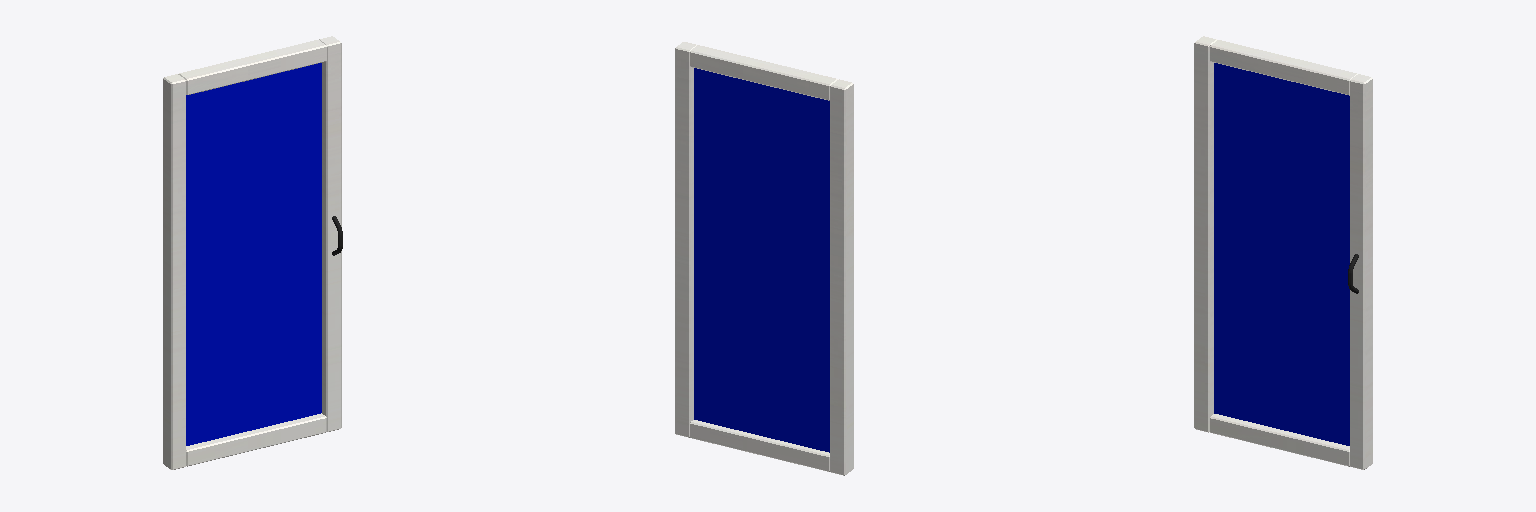
3 renders of one model, left to right at view 1: azimuth 30°, elevation 25°; view 2: azimuth 150°, elevation 25°; view 3: azimuth 330°, elevation 25°, orthographic.
Parts seen in each view (by area): view 1: Object220, Object218; view 2: Object220, Object218; view 3: Object220, Object218.
Part boxes in pixels (left/top/right/bottom): Object220: left=186, top=63, right=321, bottom=445; Object218: left=163, top=36, right=341, bottom=469; Object220: left=694, top=68, right=829, bottom=452; Object218: left=675, top=42, right=853, bottom=475; Object220: left=1214, top=63, right=1349, bottom=445; Object218: left=1194, top=36, right=1372, bottom=469.
Bounding box in the file's own units: 438 × 950 × 72.94.
3 materials, 1 textured.